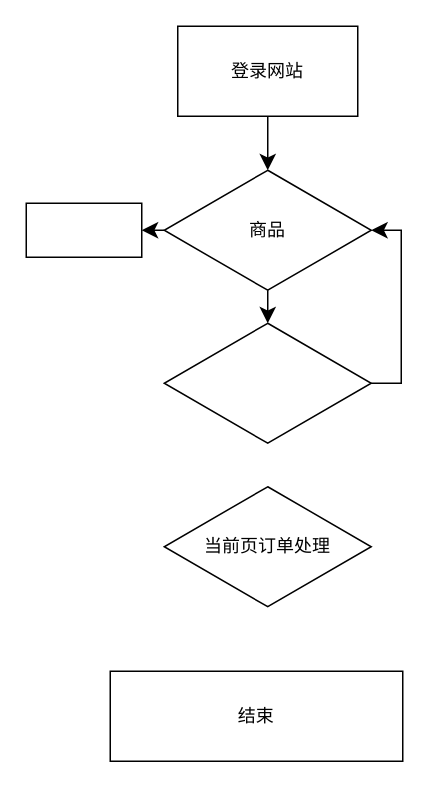
This 443x788 diagram has some shape labels left out. Here are the shapes that lost their labels. From the top down, the centre of each, then its label:
At point 83,229: "最后一个商品？".
At point 267,382: "每一页订单处理".
